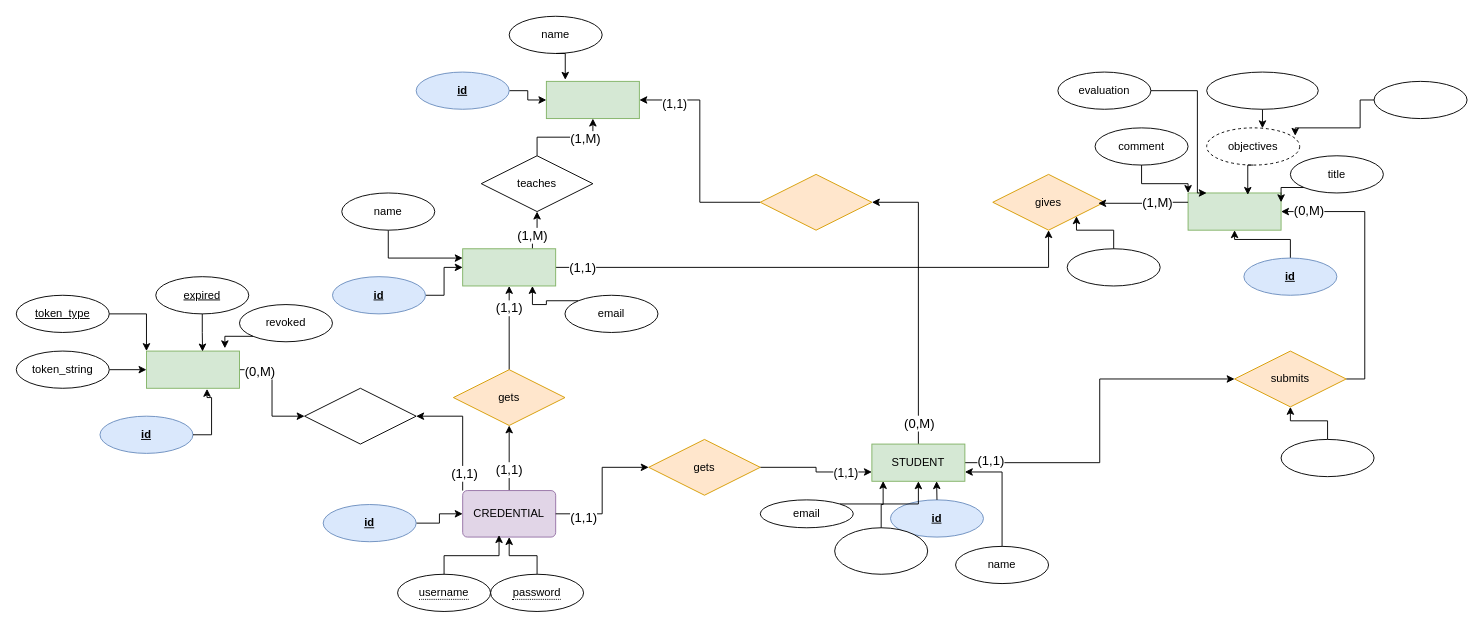
The diagram is 1483 pixels wide and 628 high, and some of its shapes have lost their labels. The centre of each missing label's shape, as x and y in pixels:
COURSE: (592,99)
general_objective: (1262,90)
PROJECT: (1234,211)
specific_objective: (1420,99)
student_number: (881,550)
takes: (815,201)
TEACHER: (509,267)
time_evaluated: (1113,267)
time_submitted: (1327,457)
TOKEN: (192,369)
uses: (360,415)
